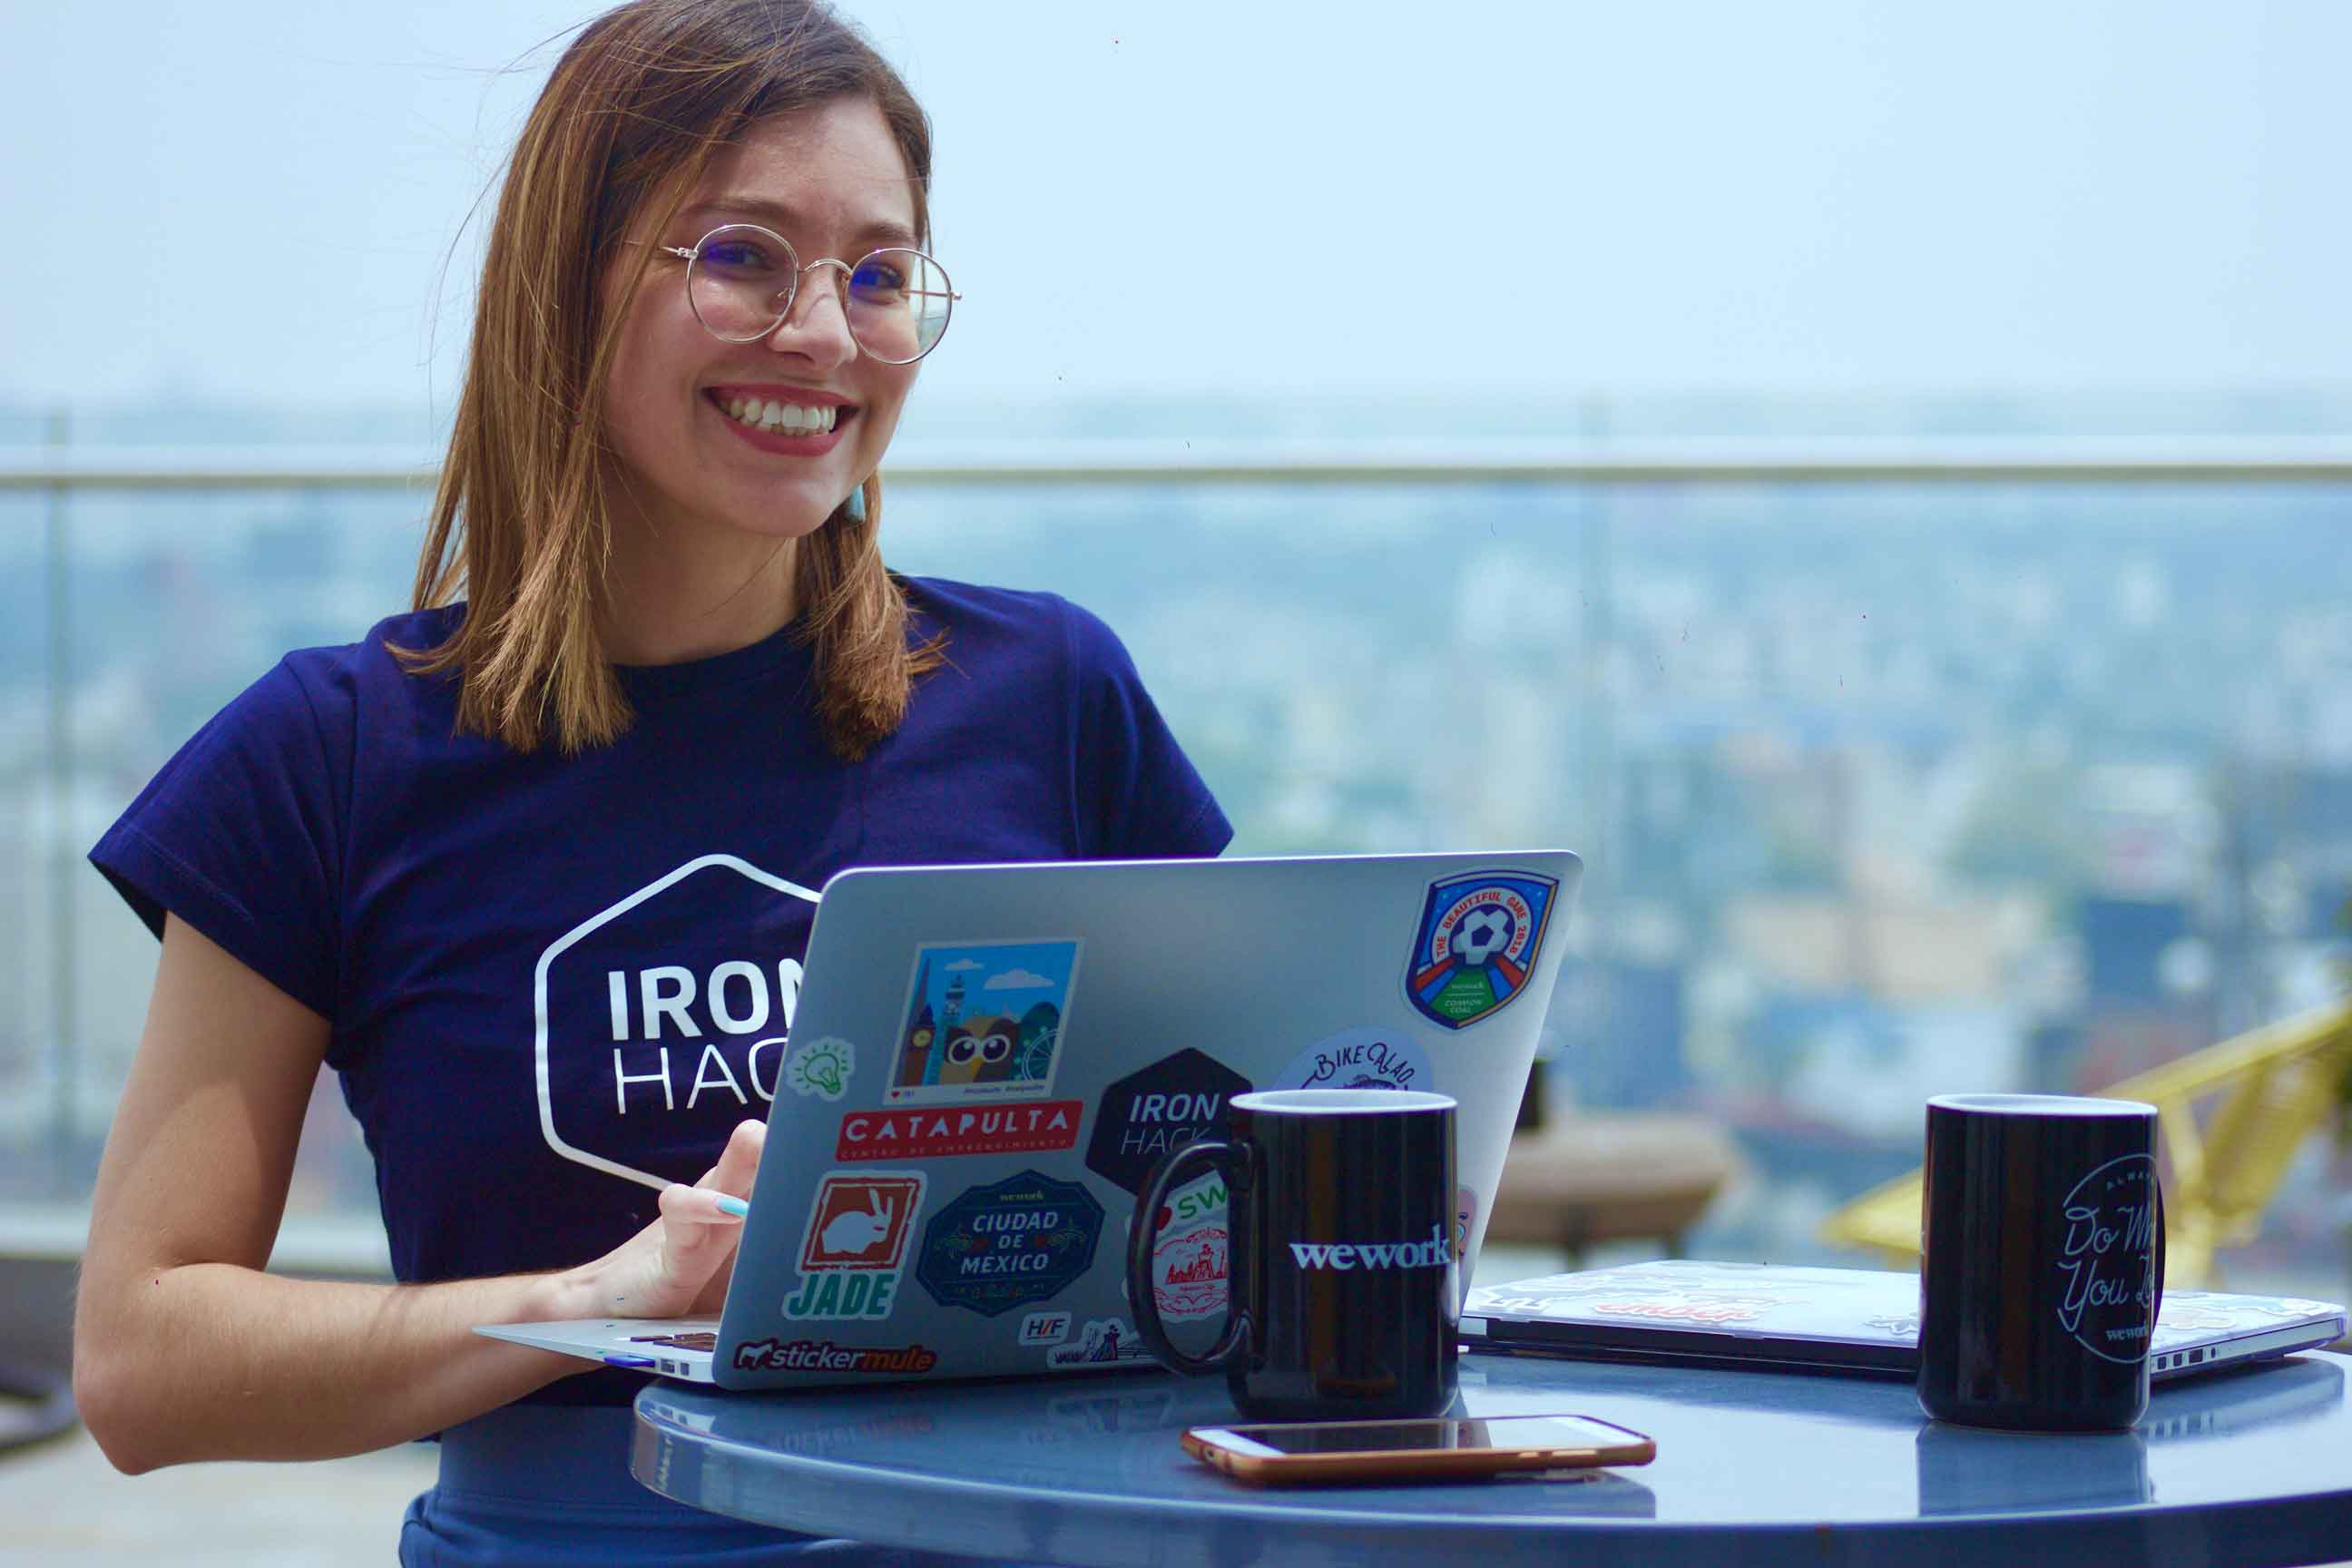wework: (1283, 1221, 1454, 1272), (2104, 1319, 2151, 1342)
